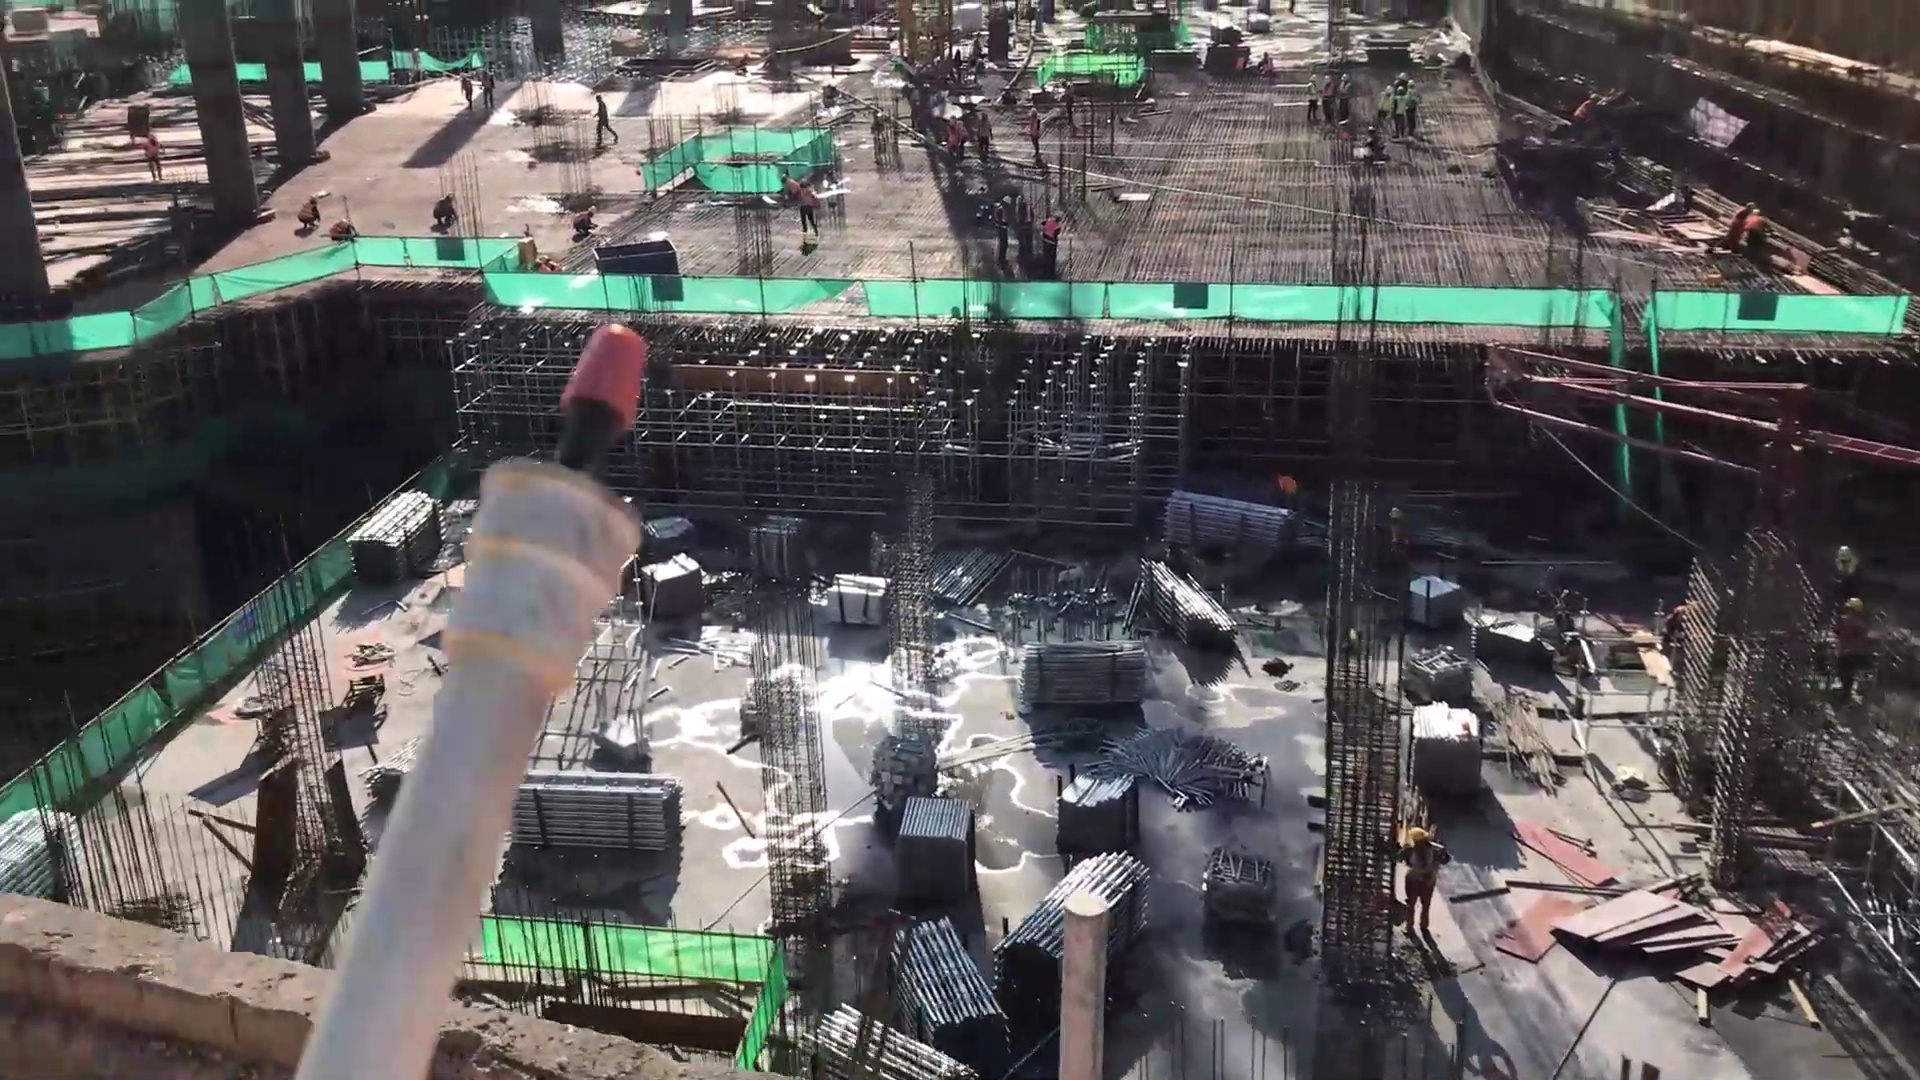board: (1555, 881, 1729, 966)
helmet: (1408, 828, 1427, 841)
person: (1393, 815, 1455, 946), (587, 92, 619, 149), (1014, 192, 1035, 275), (796, 178, 822, 244), (989, 194, 1009, 276), (1041, 214, 1062, 278), (1577, 89, 1602, 141), (942, 114, 962, 174), (143, 133, 168, 183), (1732, 197, 1754, 252), (1059, 81, 1082, 132), (566, 202, 599, 239), (1025, 103, 1044, 161), (452, 72, 477, 116), (975, 112, 996, 163), (432, 194, 457, 235), (1749, 208, 1769, 260), (296, 191, 319, 233), (1373, 83, 1391, 132), (479, 67, 500, 110), (1407, 81, 1423, 131), (1337, 68, 1352, 122), (1395, 86, 1408, 134), (327, 220, 355, 243), (778, 173, 796, 201), (1321, 73, 1332, 119), (1309, 73, 1318, 119), (1395, 72, 1410, 93)
scaffold: (1019, 847, 1147, 988), (889, 912, 1008, 1045), (508, 774, 681, 858), (795, 997, 962, 1080), (1, 803, 88, 914), (900, 793, 980, 902), (1162, 489, 1292, 557), (1023, 640, 1148, 710), (1142, 563, 1239, 649), (354, 488, 448, 562), (1410, 704, 1485, 797), (1059, 754, 1140, 837), (930, 547, 1009, 607), (748, 518, 808, 579)
